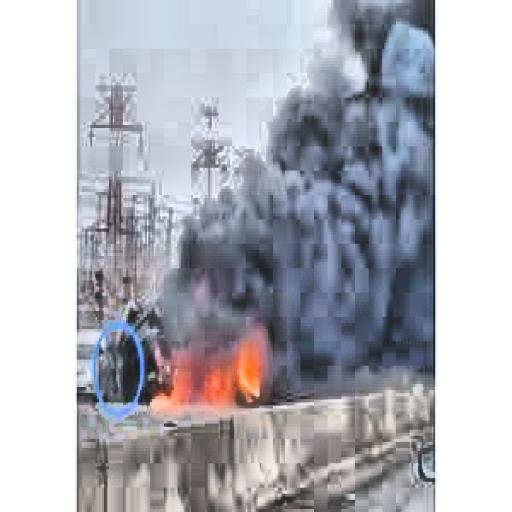fire: (148, 320, 264, 418)
